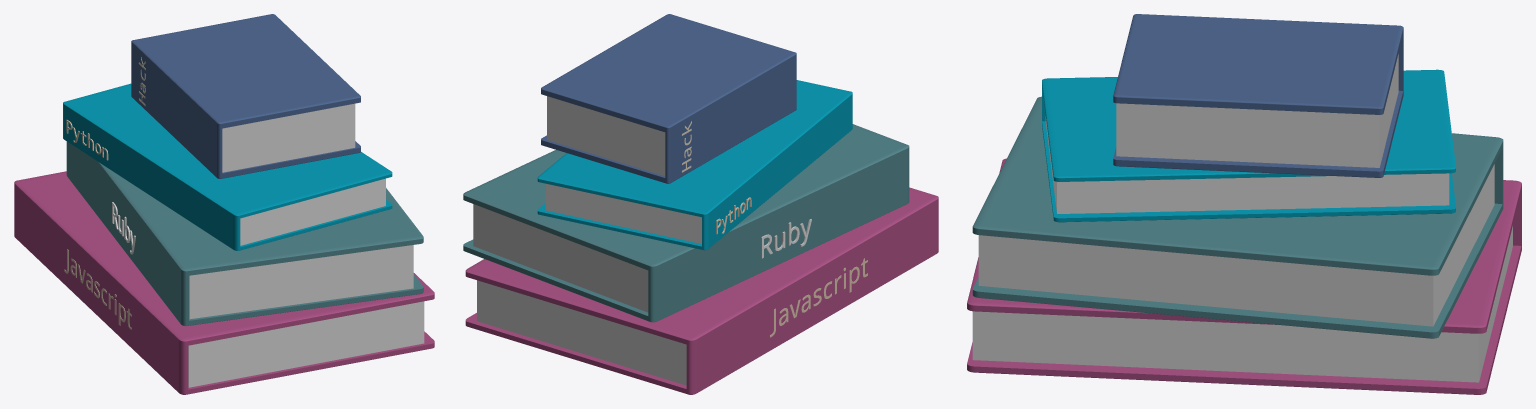
The model's file is books.glb.
3 renders of one model, left to right at view 1: azimuth 30°, elevation 25°; view 2: azimuth 150°, elevation 25°; view 3: azimuth 270°, elevation 25°, orthographic. The views are drawn at different scales.
Parts seen in each view (by area): view 1: Mesh_Mesh_head_geo.001_lambert2SG.001; view 2: Mesh_Mesh_head_geo.001_lambert2SG.001; view 3: Mesh_Mesh_head_geo.001_lambert2SG.001.
Part boxes in pixels (x1,y1,x2,y2): Mesh_Mesh_head_geo.001_lambert2SG.001: (14, 14, 434, 394); Mesh_Mesh_head_geo.001_lambert2SG.001: (463, 14, 938, 394); Mesh_Mesh_head_geo.001_lambert2SG.001: (967, 14, 1521, 394).
Bounding box in the file's own units: 19.5 × 13.33 × 25.08.
